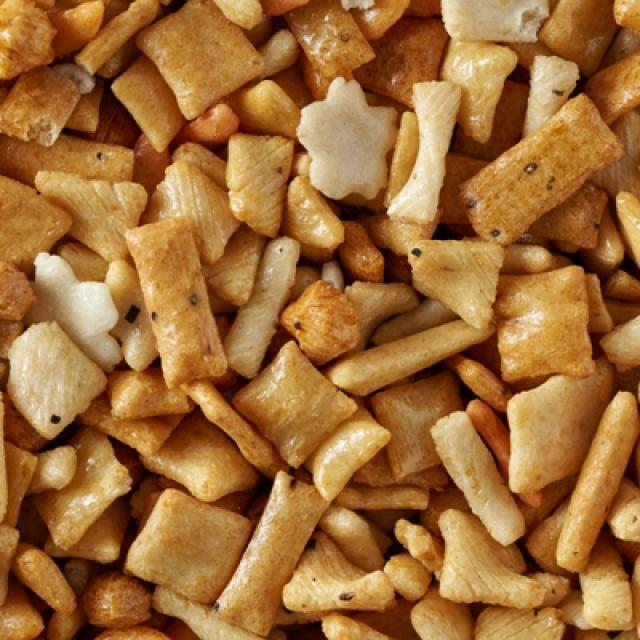Salatini: (26, 22, 628, 632)
